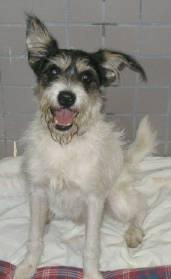dog: (13, 15, 155, 278)
